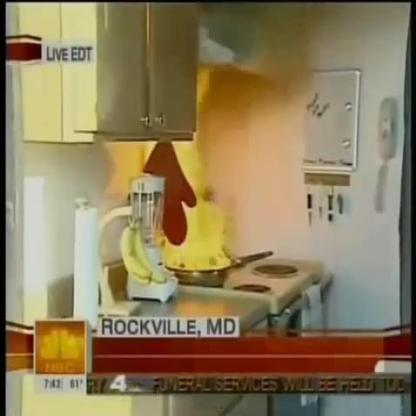fire: (145, 67, 234, 270)
